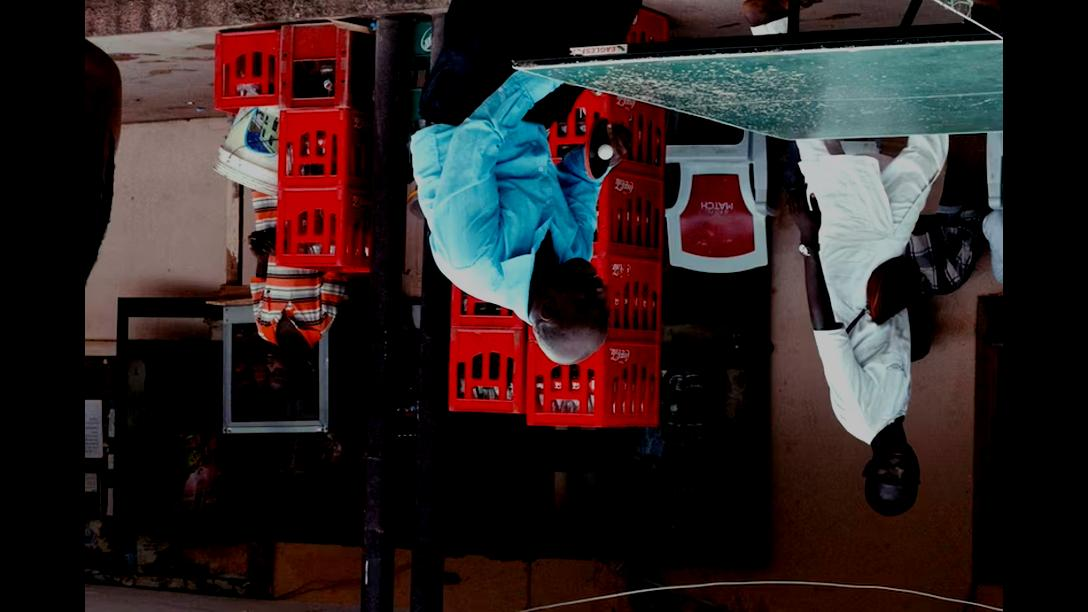Table-Tennis-Ball: (598, 144, 612, 160)
